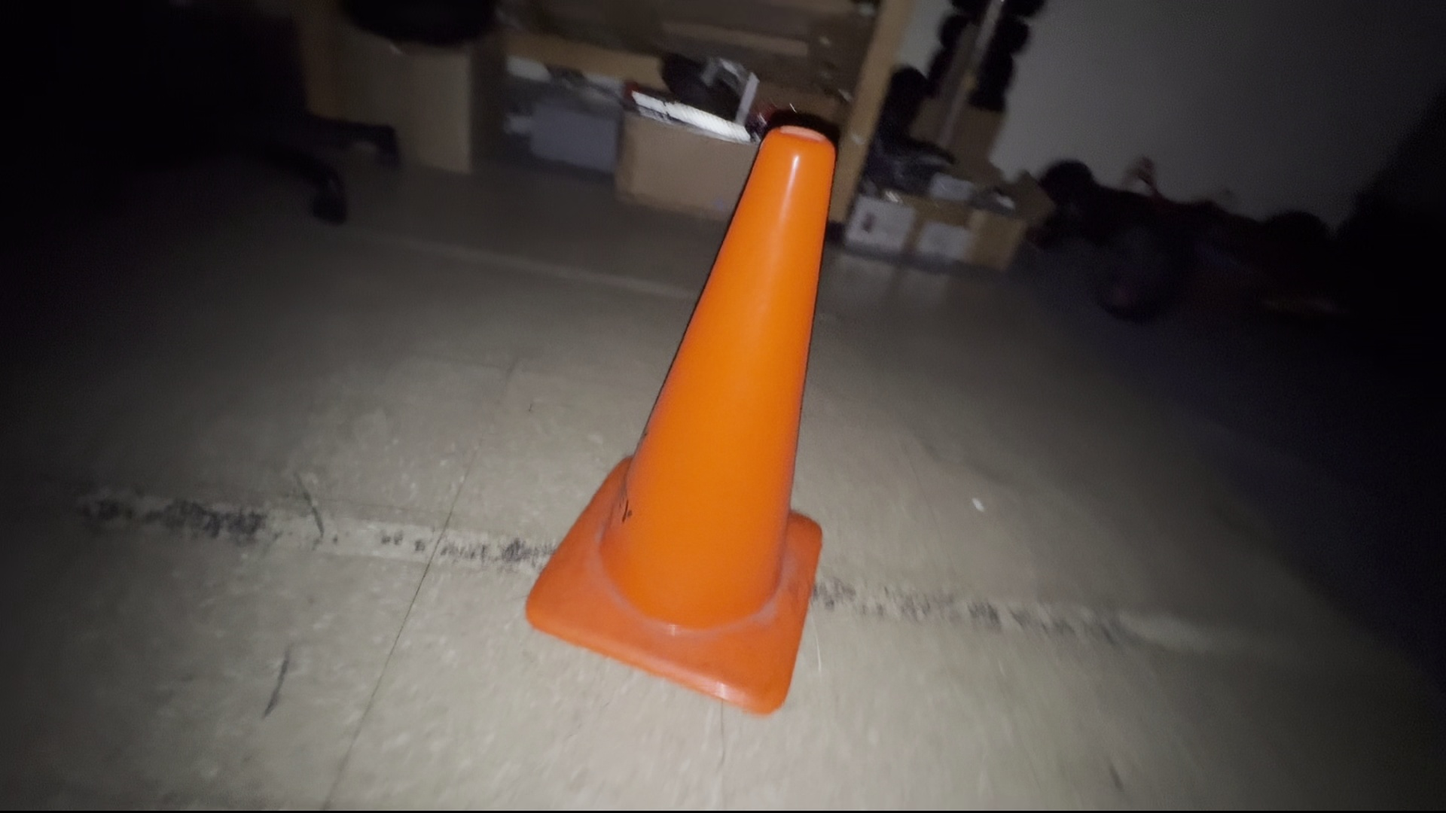traffic_cone: (524, 122, 838, 716)
